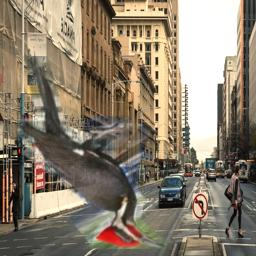Woodpecker: (17, 56, 167, 249)
